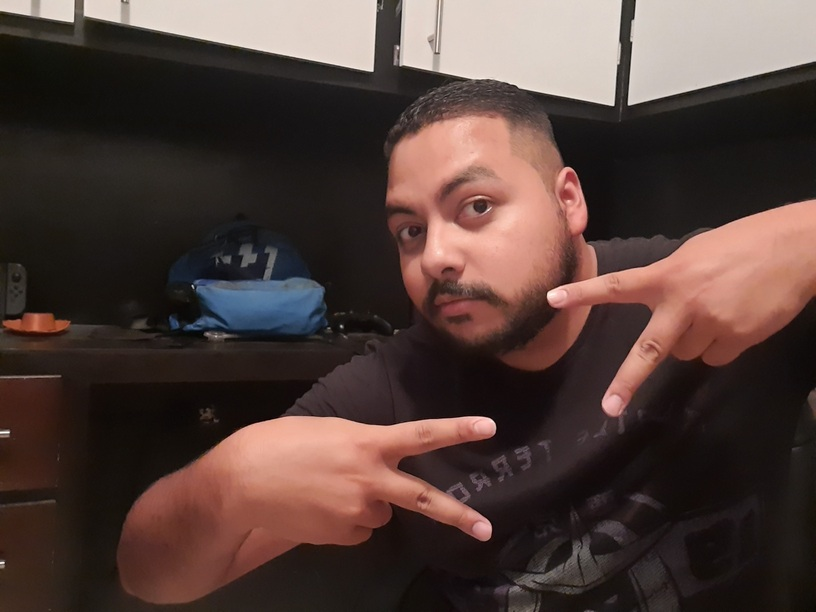Yoshi: (349, 81, 619, 349)
